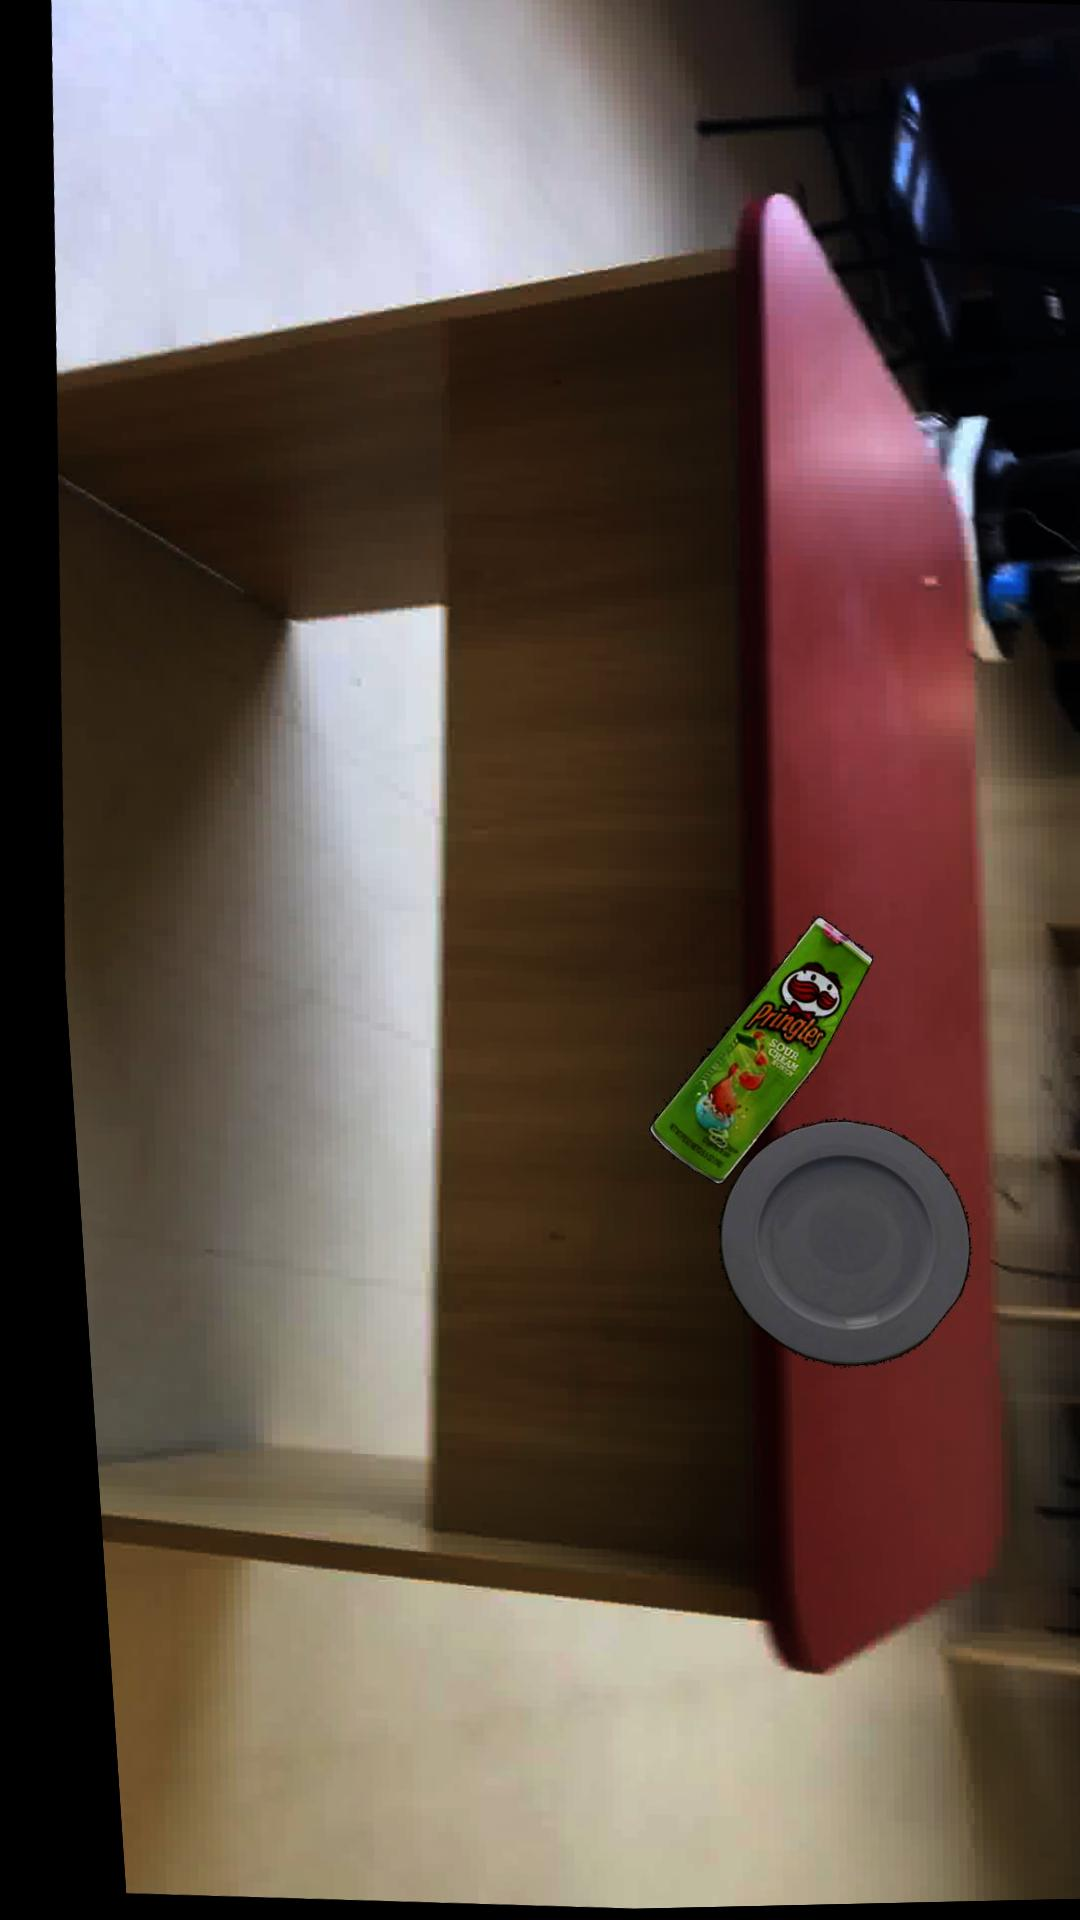plate: (698, 1120, 951, 1366)
pringles: (630, 916, 856, 1184)
